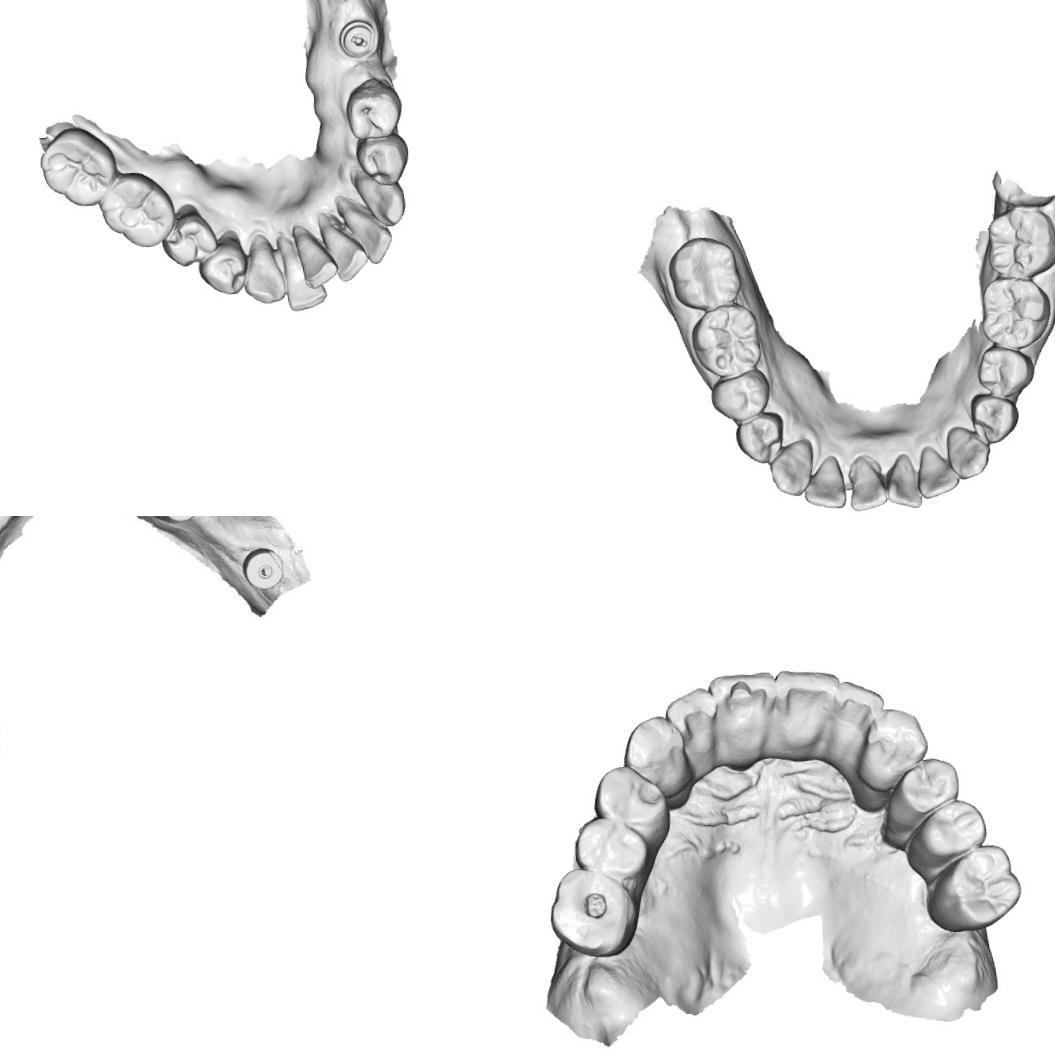canine: (854, 704, 932, 790), (622, 711, 693, 800), (349, 162, 411, 230), (238, 231, 286, 305), (766, 436, 816, 498), (944, 422, 992, 480)
implant: (240, 545, 284, 591)
implant_minus: (336, 18, 378, 60)
incisor: (706, 669, 782, 748), (772, 667, 844, 744), (827, 676, 888, 750), (661, 684, 720, 758), (280, 259, 329, 312), (294, 229, 338, 288), (914, 443, 960, 499), (800, 454, 846, 510), (846, 452, 889, 511), (326, 228, 370, 282), (884, 450, 924, 509), (352, 213, 396, 265)
molar: (544, 864, 640, 960), (936, 839, 1026, 933), (36, 123, 120, 210), (95, 168, 178, 250), (665, 232, 743, 312), (688, 300, 764, 380), (977, 274, 1054, 352), (982, 200, 1055, 280)
premolar: (589, 761, 670, 834), (571, 812, 652, 882), (914, 794, 988, 862), (890, 751, 963, 818), (342, 74, 404, 142), (158, 207, 220, 269), (195, 228, 251, 296), (707, 366, 772, 424), (352, 129, 412, 188), (974, 341, 1036, 397), (966, 389, 1022, 445), (732, 415, 784, 466)
